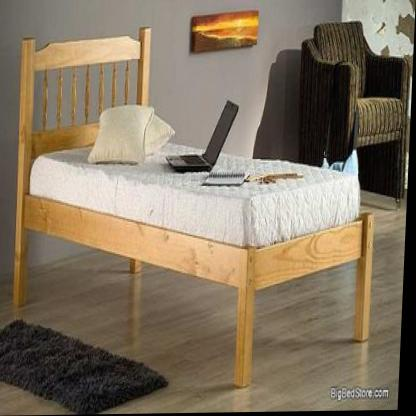Bed: (11, 26, 383, 390)
